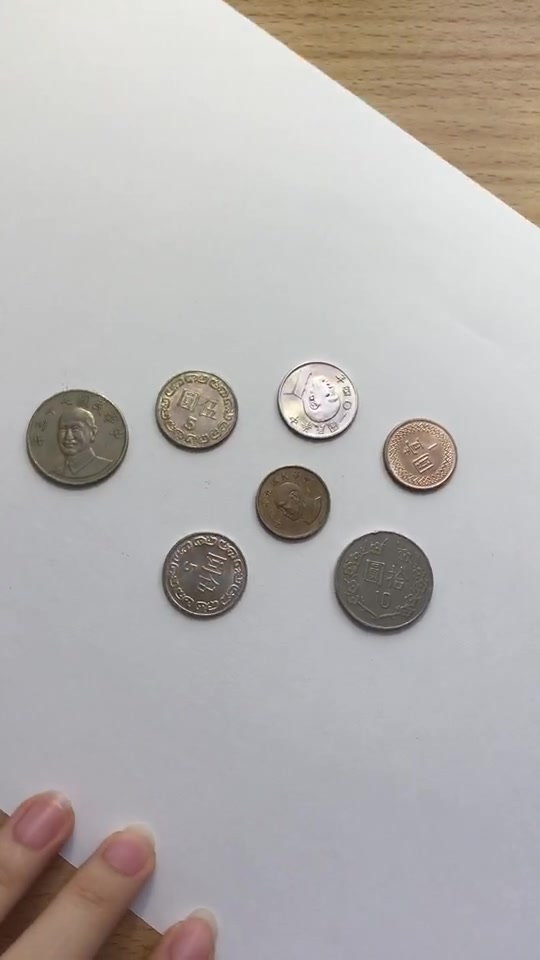1 dallar: (253, 460, 340, 546), (375, 413, 462, 499)
10 dallar: (19, 382, 133, 491), (323, 527, 437, 636)
5 dallar: (154, 526, 248, 624), (268, 353, 362, 451), (151, 360, 245, 458)
